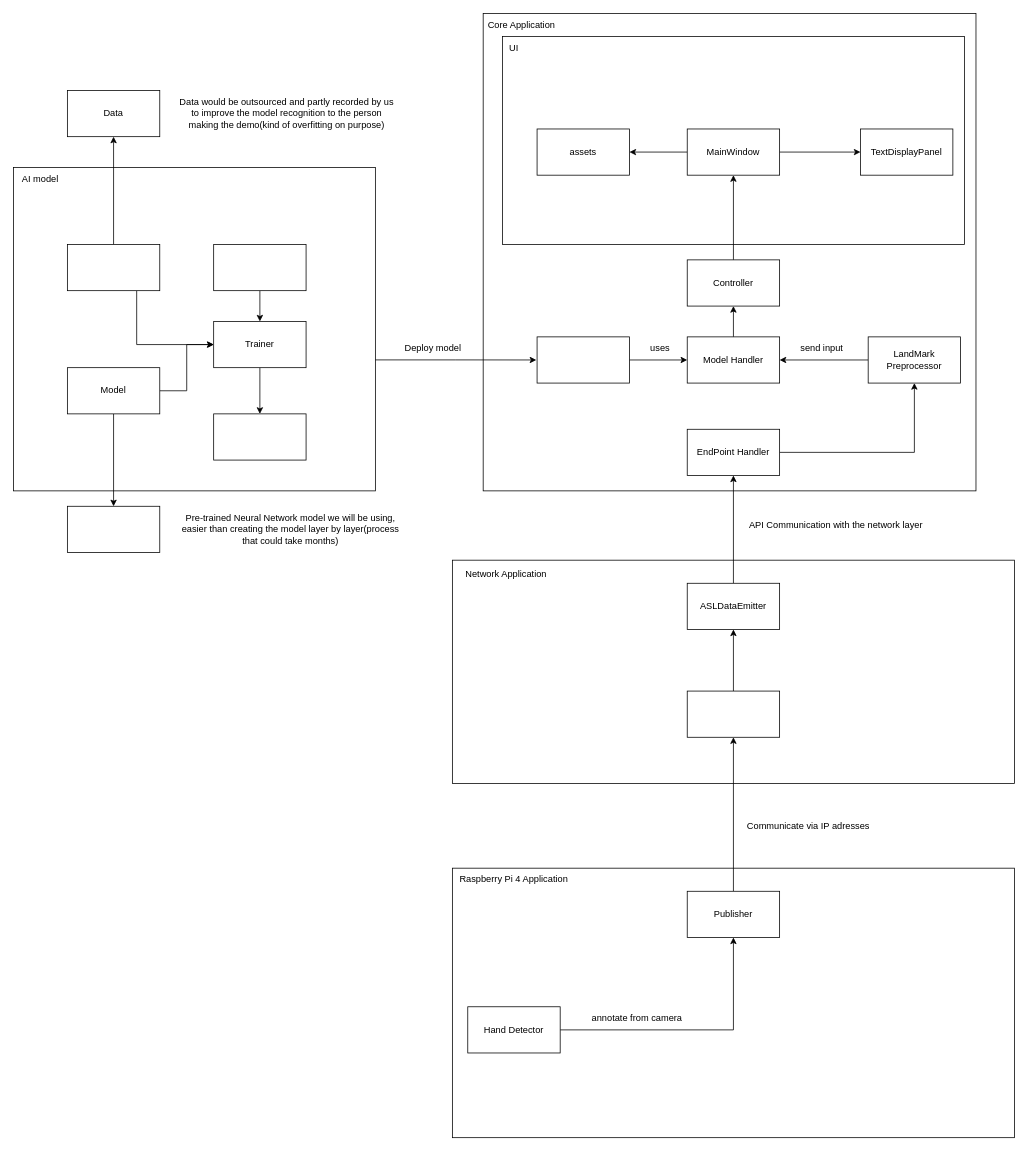
The diagram is 1028 pixels wide and 1151 high, and some of its shapes have lost their labels. The centre of each missing label's shape, as x and y in pixels:
ASLNet: [582,359]
Dataset Handler: [113,267]
Metrics: [259,267]
Model db handler: [259,436]
ModelBase: [113,529]
Subscriber: [733,713]
